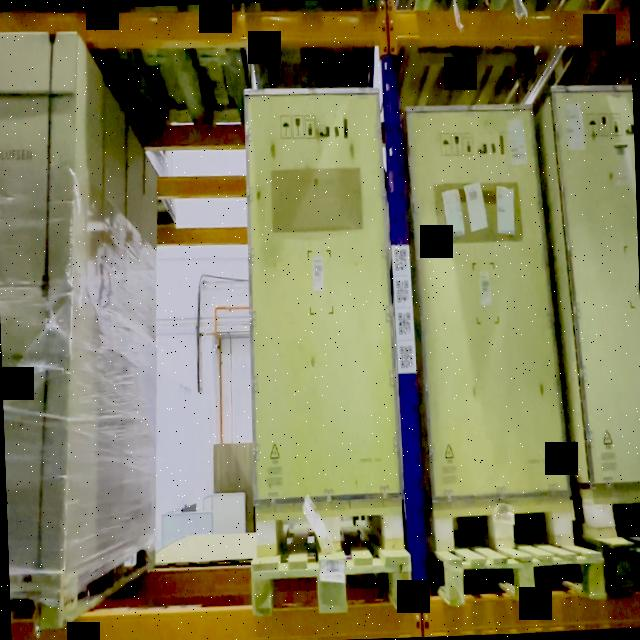box: (243, 88, 403, 502), (406, 103, 568, 500)
